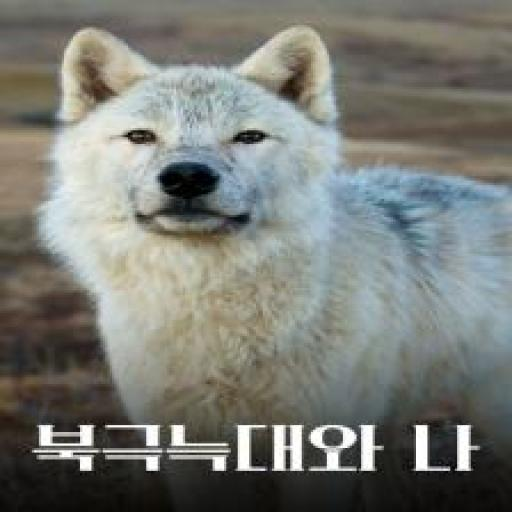wolf: (34, 18, 512, 418)
